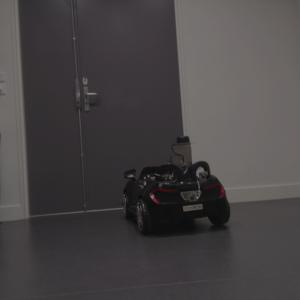big: (118, 160, 233, 236)
